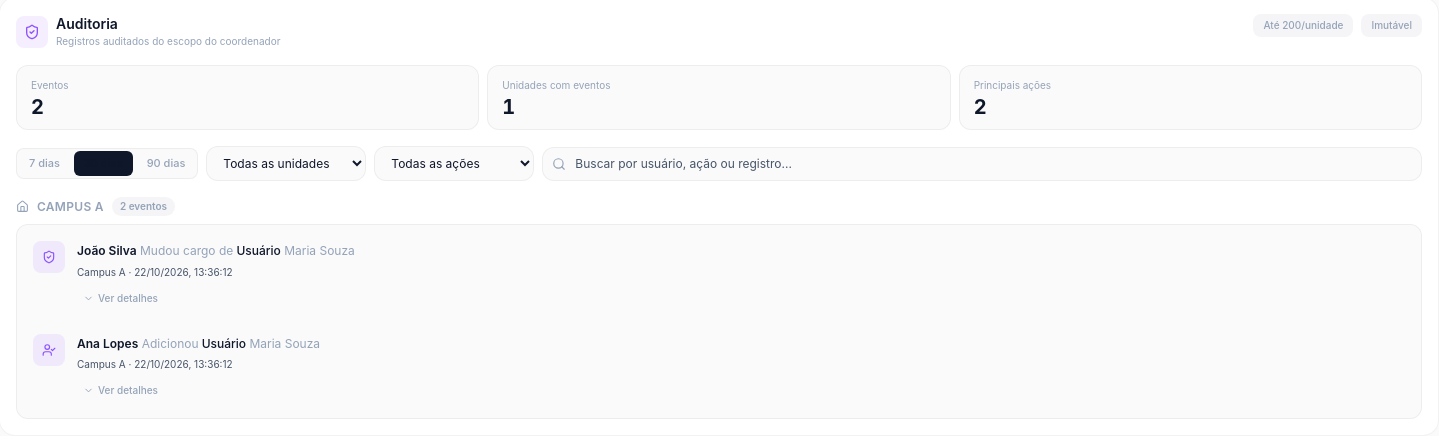
it: CoordinatorAuditTab — auditoria READ-ONLY sobre o escopo visível (V1) › busca por usuário filtra os registros
This screenshot has width=1439, height=436.
Expected: the element with test id "audit-event-a" is shown, [33, 241, 355, 308]
In the search field with test id "audit-search": (982,164) [542, 146, 1422, 180], type "ana"
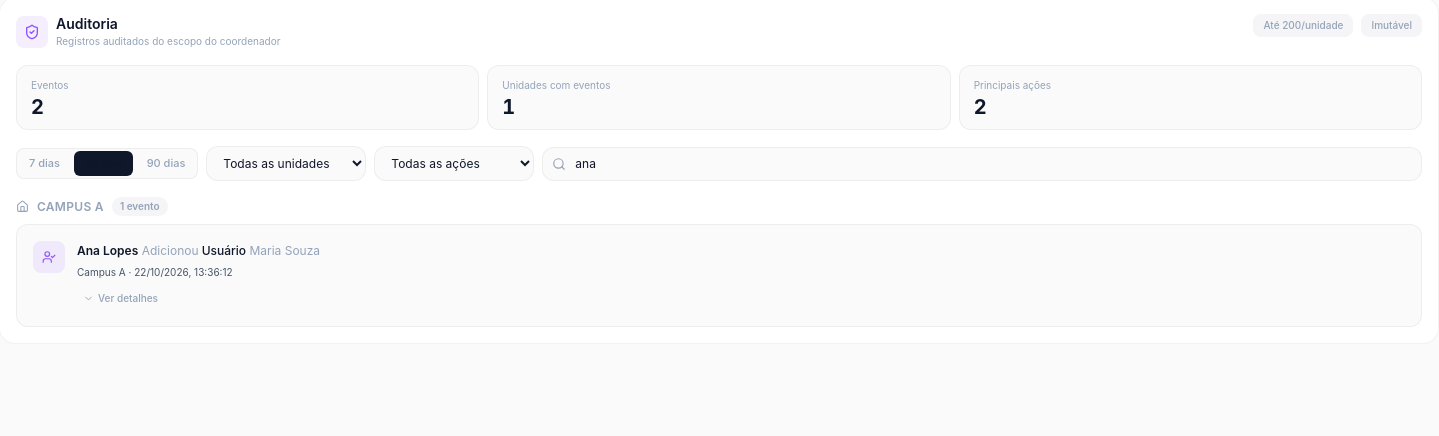
Expected: the element with test id "audit-event-b" is shown, [33, 241, 320, 308]
Expected: the element with test id "audit-event-a" is gone
